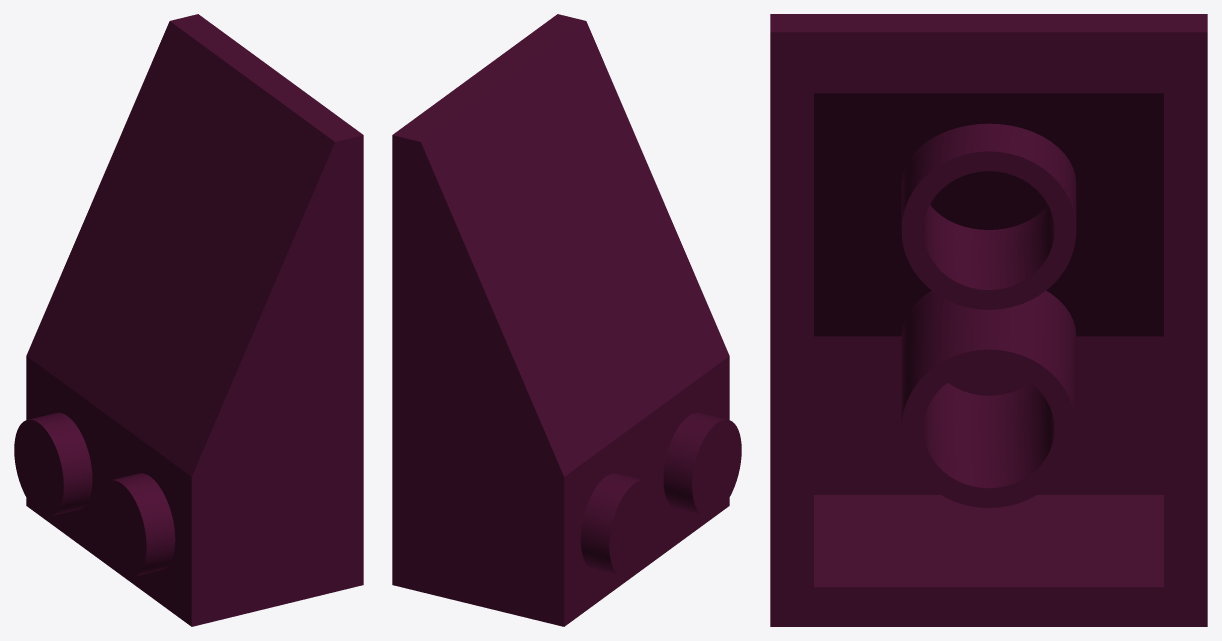
Rendered from slope_33_3*2_magenta.obj.
The picture shows the model from 3 angles, left to right: view 1: azimuth 30°, elevation 25°; view 2: azimuth 150°, elevation 25°; view 3: azimuth 270°, elevation 25°; orthographic projection. The views are drawn at different scales.
Size of the model in its own units: 28 by 60 by 40.
